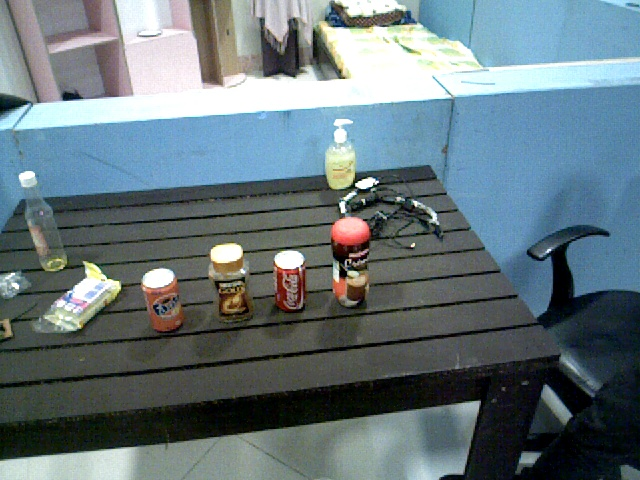coca: (272, 249, 306, 315)
coffee: (209, 243, 251, 325)
cream: (331, 219, 371, 308)
fanta: (143, 269, 184, 334)
